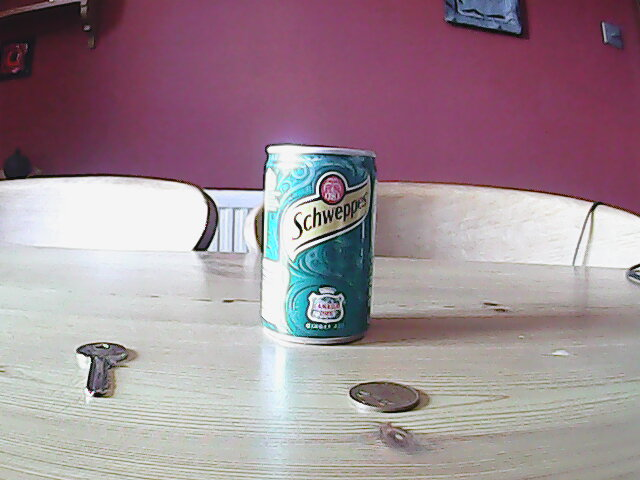Can: (258, 144, 376, 348)
Coin: (347, 380, 423, 415)
Key: (67, 339, 129, 402)
